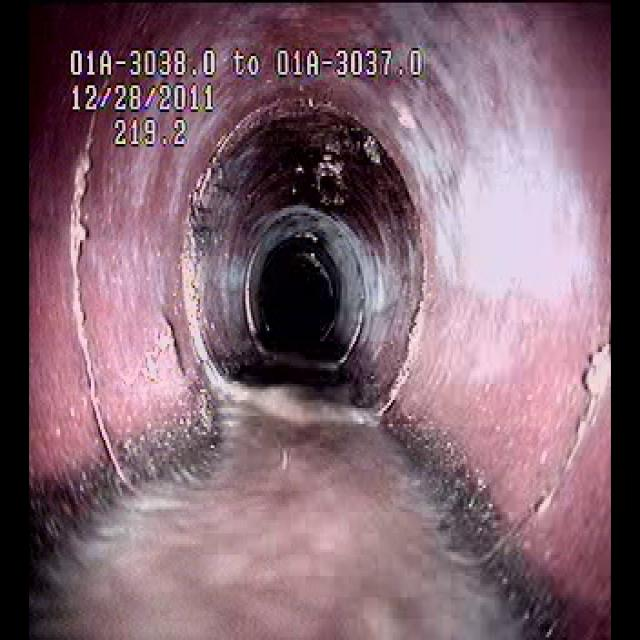Fracture: (478, 329, 606, 572)
